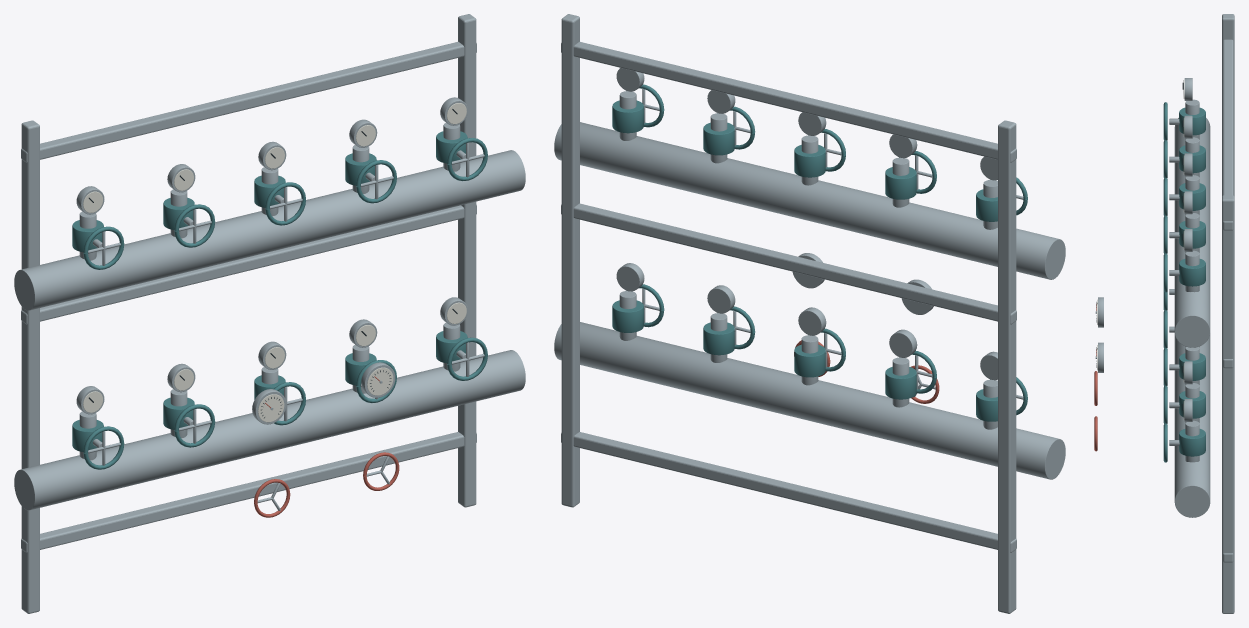
The model's file is SF_ValveManifold.fbx.
The picture shows the model from 3 angles, left to right: view 1: azimuth 30°, elevation 25°; view 2: azimuth 150°, elevation 25°; view 3: azimuth 270°, elevation 25°; orthographic projection. The views are drawn at different scales.
Visible parts, largest first — view 1: SF_ValveManifold; view 2: SF_ValveManifold; view 3: SF_ValveManifold.
Boxes of the visible parts, x1,y1,x2,y2 form: SF_ValveManifold: (14, 14, 525, 613); SF_ValveManifold: (554, 14, 1065, 613); SF_ValveManifold: (1094, 14, 1234, 613).
Size of the model in its own units: 270 by 256 by 78.4.
